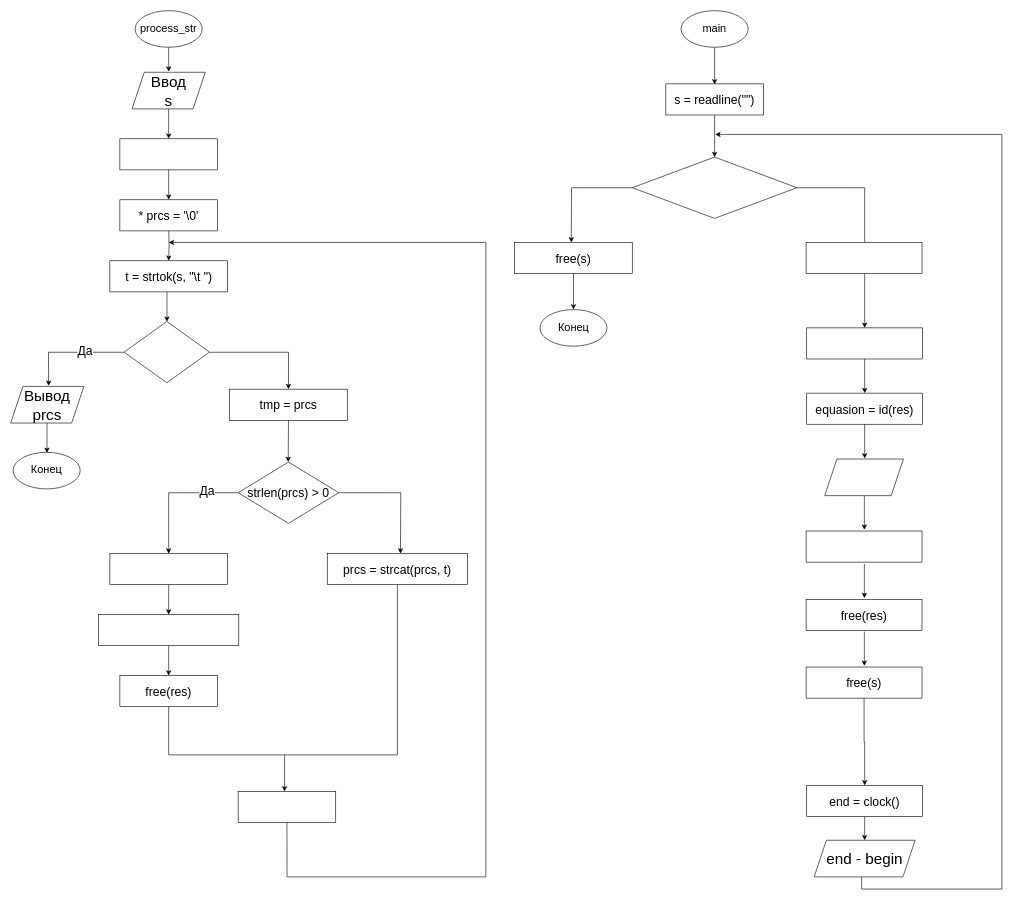
The diagram is 1017 pixels wide and 905 high, and some of its shapes have lost their labels. The centre of each missing label's shape, as x and y in pixels:
begin = clock(): (x=864, y=258)
equasion: (x=863, y=477)
free(equasion): (x=864, y=546)
free(tmp): (x=287, y=807)
prcs = malloc(1): (x=168, y=154)
prcs = strcat(prcs, res): (x=168, y=630)
res = process_str(s): (x=864, y=343)
res = strcat(" ", t): (x=168, y=569)
s == NULL || strlen(s) < 1: (x=714, y=187)
t == NULL: (x=167, y=352)
